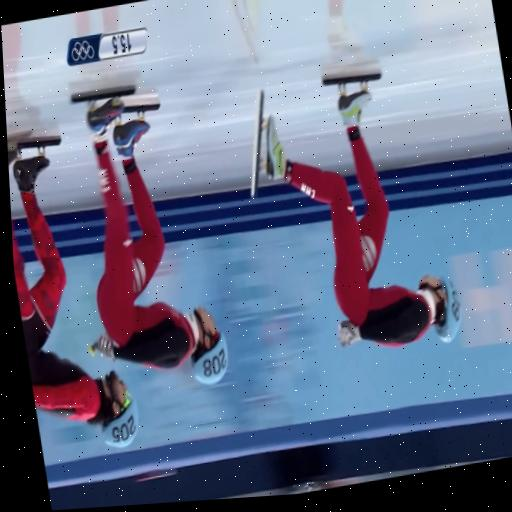Skater: (263, 81, 460, 346), (7, 137, 138, 447), (86, 95, 226, 384)
